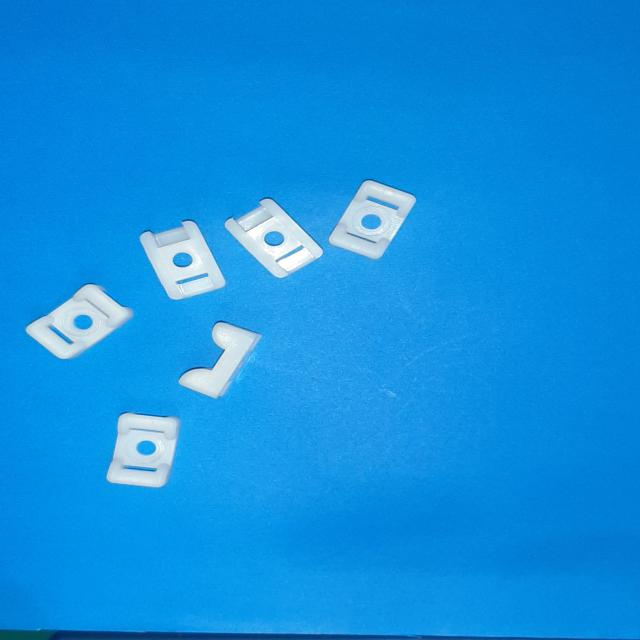false_1: (225, 199, 323, 278), (140, 220, 225, 300)
false_2: (178, 322, 262, 399)
true: (27, 284, 133, 359), (328, 180, 417, 260), (107, 412, 180, 488)
true_center: (361, 214, 382, 229), (73, 315, 93, 330), (137, 440, 157, 455)
